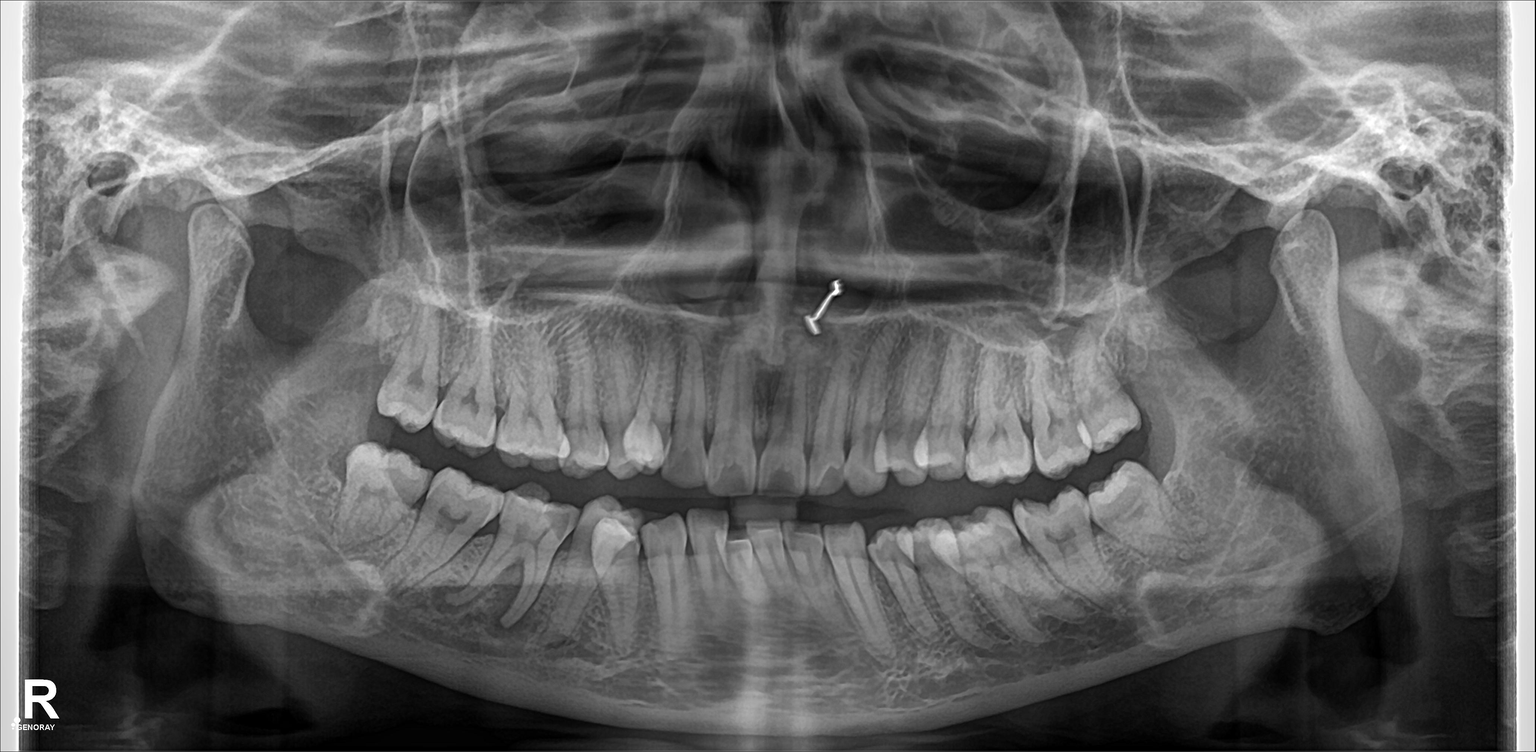Dental Caries: (717, 460, 763, 499), (767, 467, 799, 495)
Impacted Third Molar: (1097, 471, 1198, 550), (335, 450, 425, 536)
